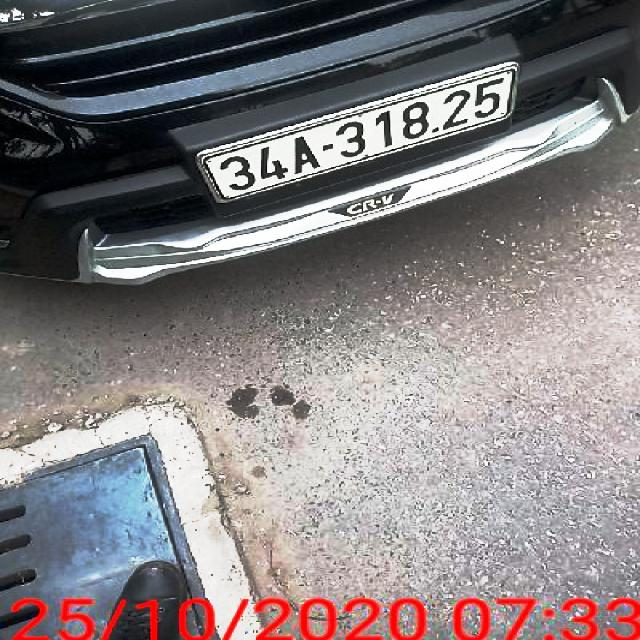license_plate: (209, 70, 516, 199)
